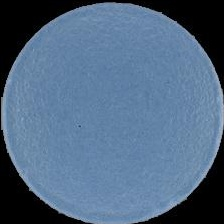70786-0090: (0, 0, 224, 224)
